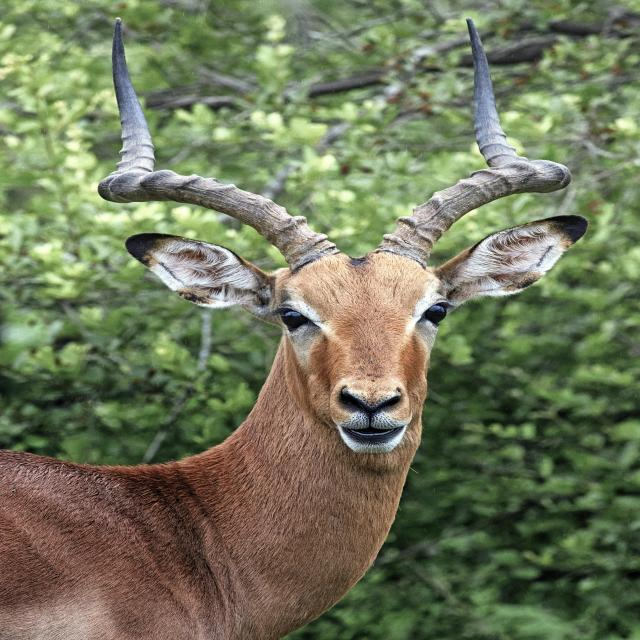Antelope: (0, 17, 590, 640)
